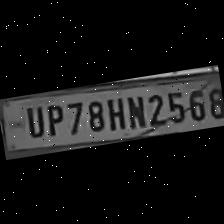2: (141, 88, 167, 128)
5: (161, 86, 186, 125)
6: (182, 83, 207, 123)
7: (60, 97, 86, 137)
8: (82, 94, 108, 133), (204, 82, 224, 120)
H: (102, 92, 128, 132)
N: (121, 90, 147, 130)
P: (40, 99, 67, 138)
U: (20, 103, 46, 140)
